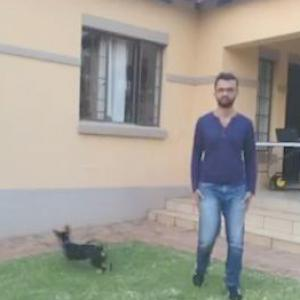follow: (184, 74, 256, 296)
